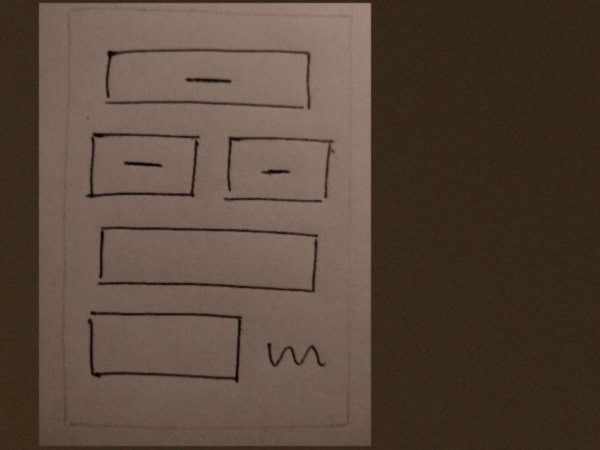button: (98, 38, 318, 116), (220, 127, 338, 210), (82, 125, 206, 203)
text: (261, 335, 340, 381)
text_input: (90, 219, 326, 301), (81, 306, 252, 388)
